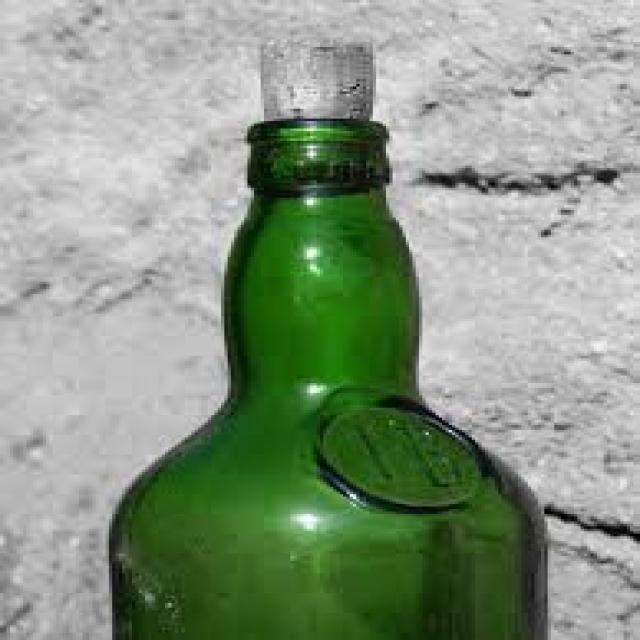Glass: (110, 121, 549, 640)
